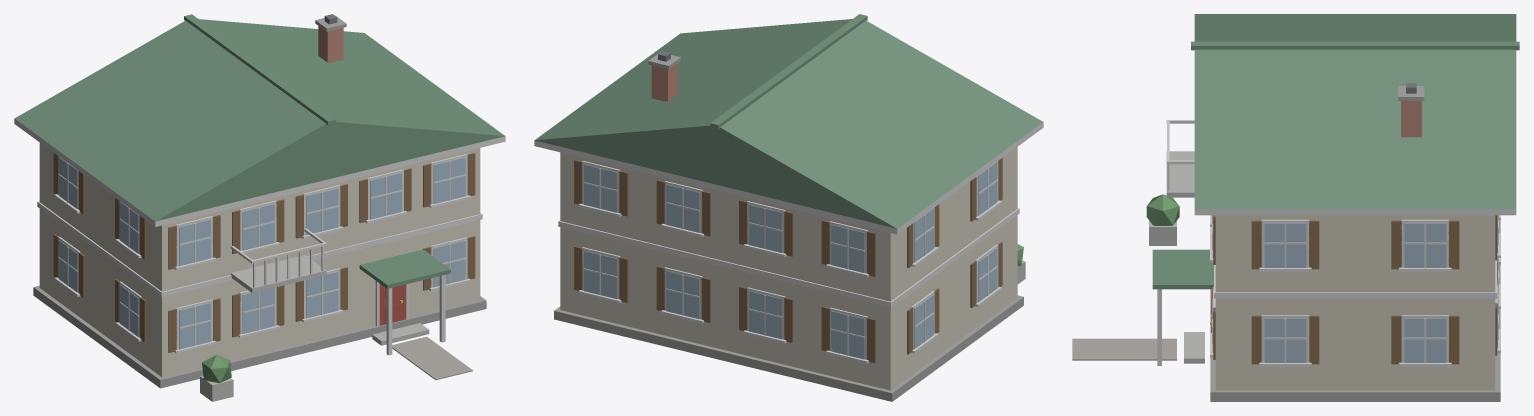
The model's file is Villa_19.glb.
3 renders of one model, left to right at view 1: azimuth 30°, elevation 25°; view 2: azimuth 150°, elevation 25°; view 3: azimuth 270°, elevation 25°, orthographic. The views are drawn at different scales.
Visible parts, largest first — view 1: Villa_19; view 2: Villa_19; view 3: Villa_19.
Boxes of the visible parts, x1=… form: Villa_19: x1=14, y1=14, x2=505, y2=401; Villa_19: x1=534, y1=14, x2=1043, y2=401; Villa_19: x1=1072, y1=14, x2=1519, y2=401.
Bounding box in the file's own units: 13.2 × 8.8 × 12.8.
